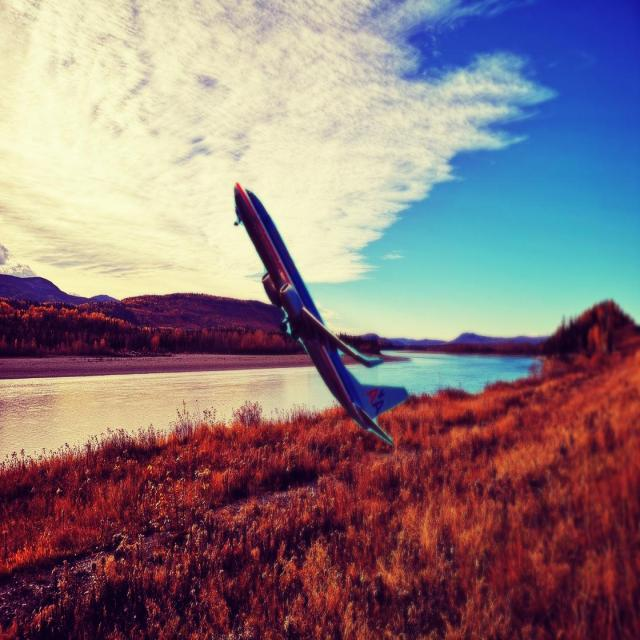airplane: (233, 180, 411, 448)
